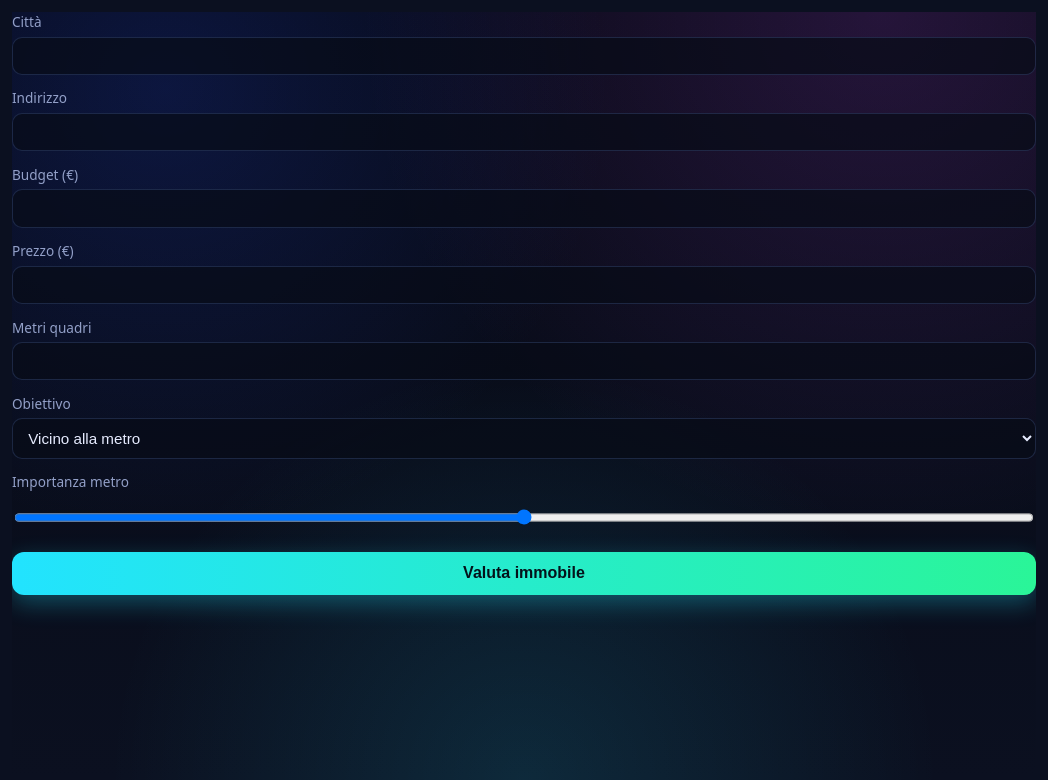
it: EvaluationForm › blocks submit and shows error when required fields are empty
The width and height of the screenshot is (1048, 780).
Click the button "Valuta immobile".
click(524, 573)  # box [12,552,1036,595]
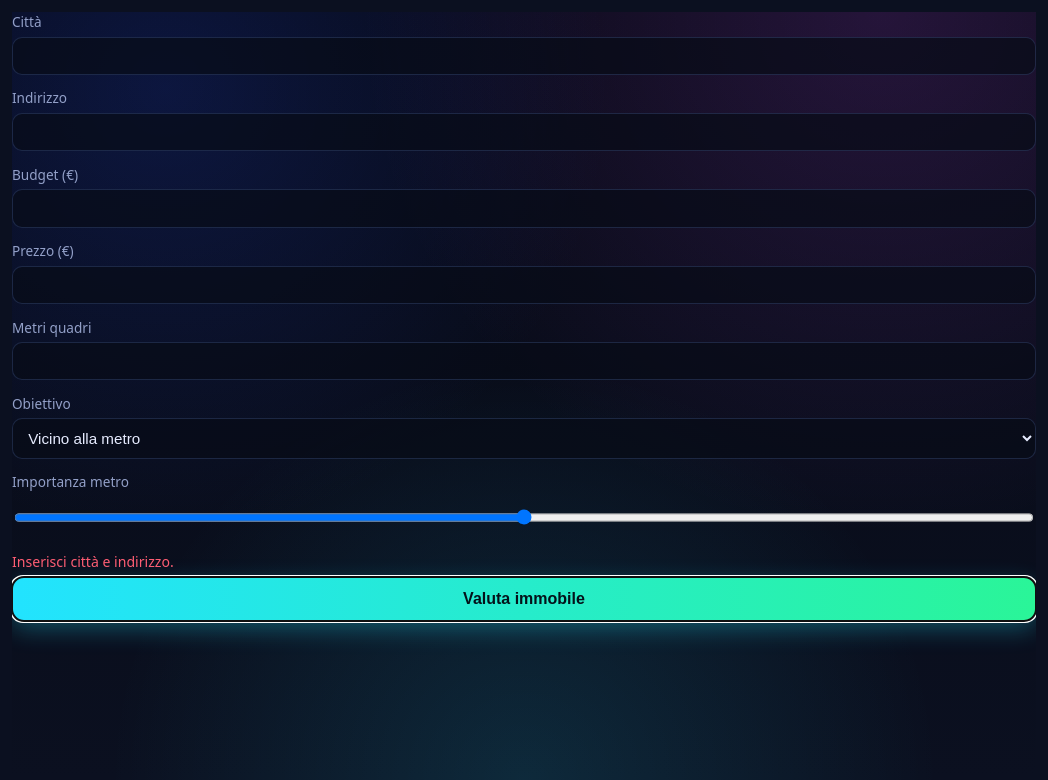
Now the message shows "città e indirizzo", box [12,552,174,571]
